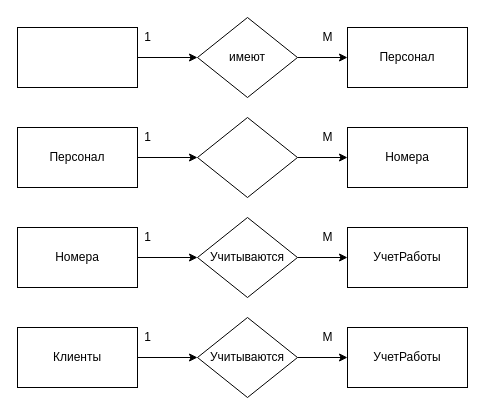
Image size: 485x415. Some labels were removed from this diagram. Each missing label, with the centre of its shape:
Должности: the point at 77,57
обслуживает: the point at 247,157
